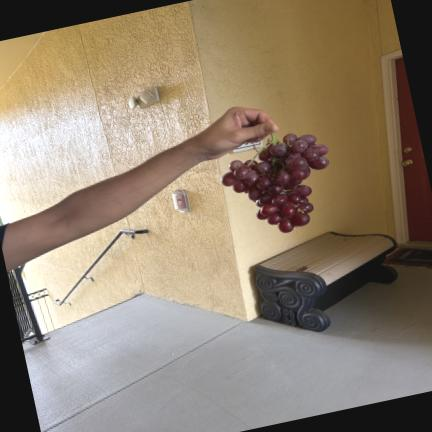grape_cluster: (220, 132, 329, 233)
